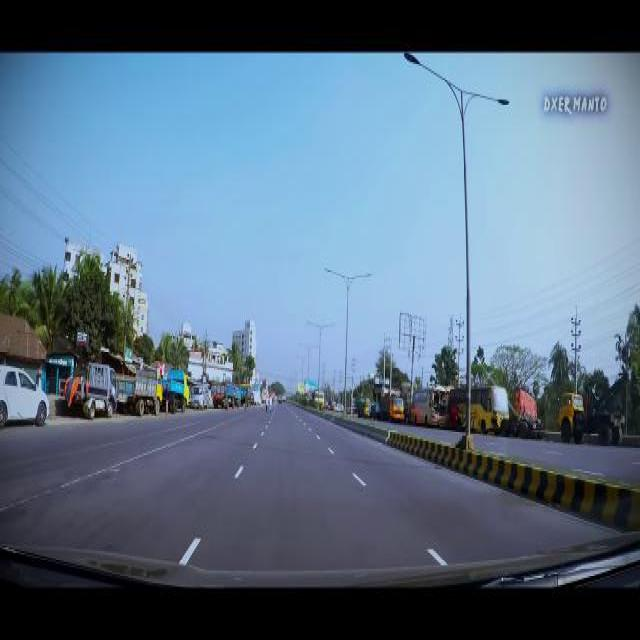bus: (448, 384, 508, 430), (260, 386, 268, 400)
car: (0, 364, 50, 426)
minivan: (190, 382, 208, 407)
pickup: (66, 360, 116, 419), (116, 368, 162, 414), (162, 369, 188, 410)
truck: (557, 369, 627, 442), (378, 392, 404, 419), (210, 379, 234, 407), (355, 396, 369, 414), (310, 390, 322, 406)
van: (333, 404, 343, 411)
